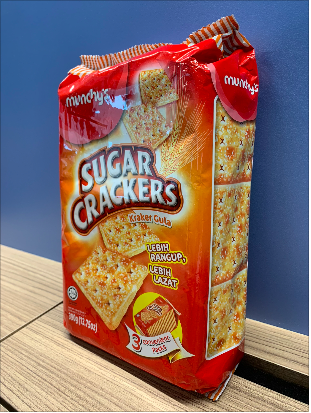Crackers_300-399g: (78, 90, 215, 355)
